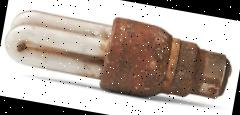lightbulb: (0, 0, 238, 111)
